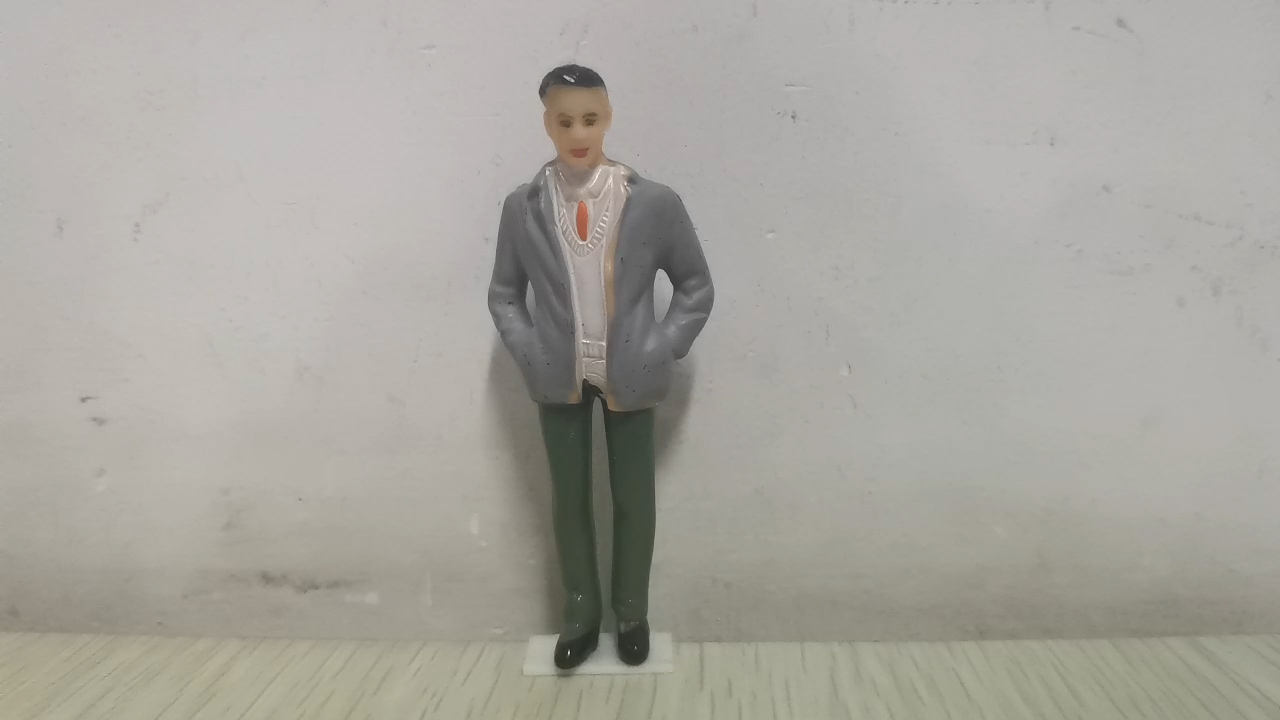person: (485, 62, 718, 670)
